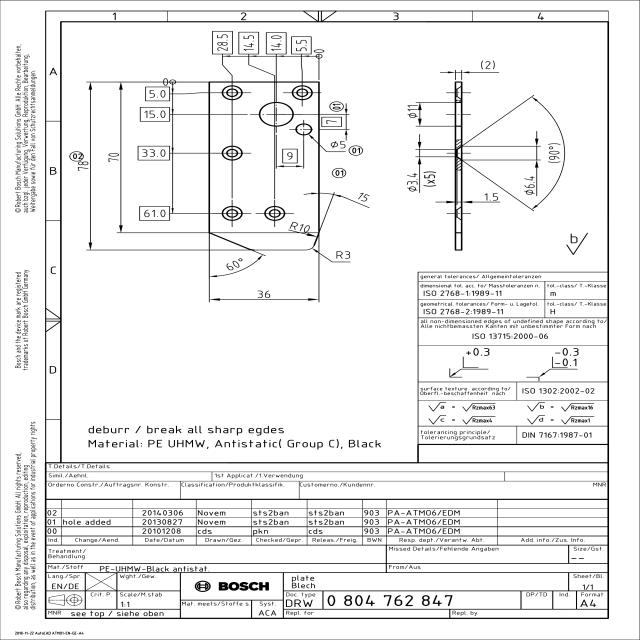dimension: (406, 171, 437, 192), (546, 142, 563, 164), (223, 256, 246, 272), (140, 147, 167, 160), (214, 33, 230, 52), (287, 221, 312, 233), (522, 175, 536, 196), (241, 34, 256, 53), (270, 34, 284, 53), (148, 207, 168, 220), (142, 110, 168, 120), (147, 88, 168, 99), (478, 60, 498, 70), (296, 38, 309, 53), (405, 104, 418, 119), (329, 140, 347, 150), (334, 250, 352, 260), (356, 192, 372, 203), (482, 192, 500, 201), (106, 152, 120, 163), (257, 289, 272, 299), (77, 162, 90, 172), (324, 118, 339, 126), (285, 151, 295, 161)
